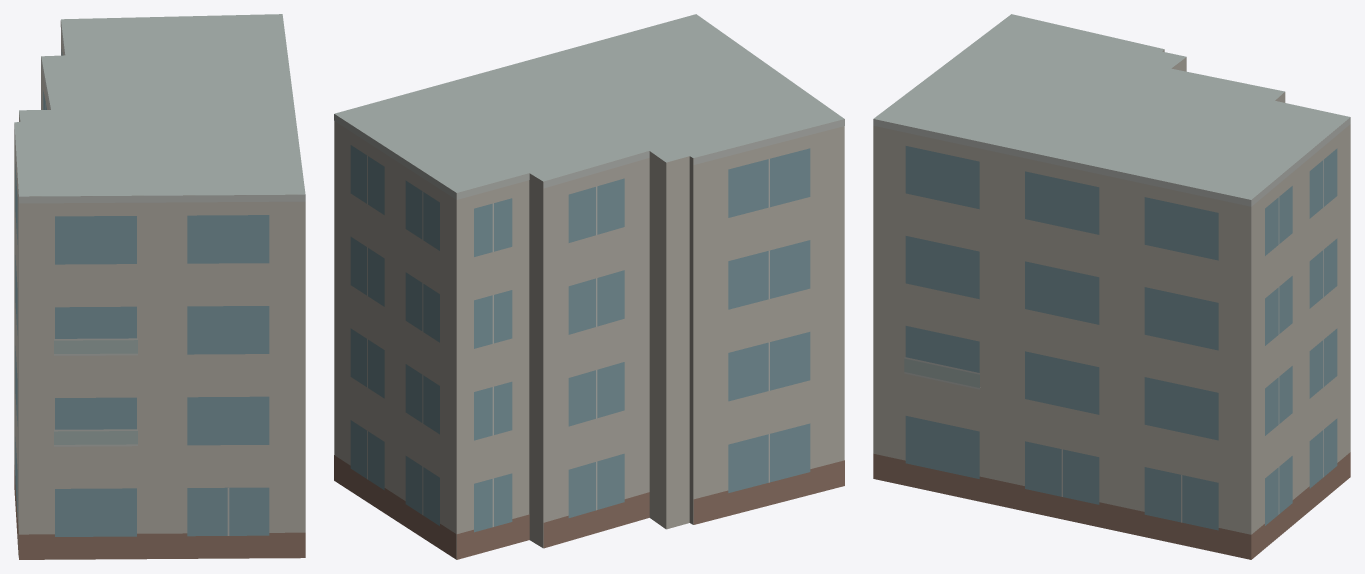
File: survey-upis-32997979.glb
The picture shows the model from 3 angles, left to right: view 1: azimuth 30°, elevation 25°; view 2: azimuth 150°, elevation 25°; view 3: azimuth 270°, elevation 25°; orthographic projection.
Visible parts, largest first — view 1: survey-upis-32997979.tmp; view 2: survey-upis-32997979.tmp; view 3: survey-upis-32997979.tmp.
Part boxes in pixels (x1=…): survey-upis-32997979.tmp: x1=14, y1=14, x2=305, y2=559; survey-upis-32997979.tmp: x1=334, y1=14, x2=844, y2=559; survey-upis-32997979.tmp: x1=873, y1=14, x2=1350, y2=559.
Size of the model in its own units: 14.19 by 12.8 by 15.4.
